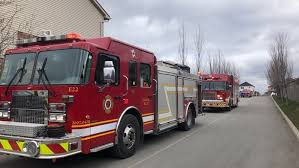special: (1, 36, 201, 166), (199, 73, 240, 112)
